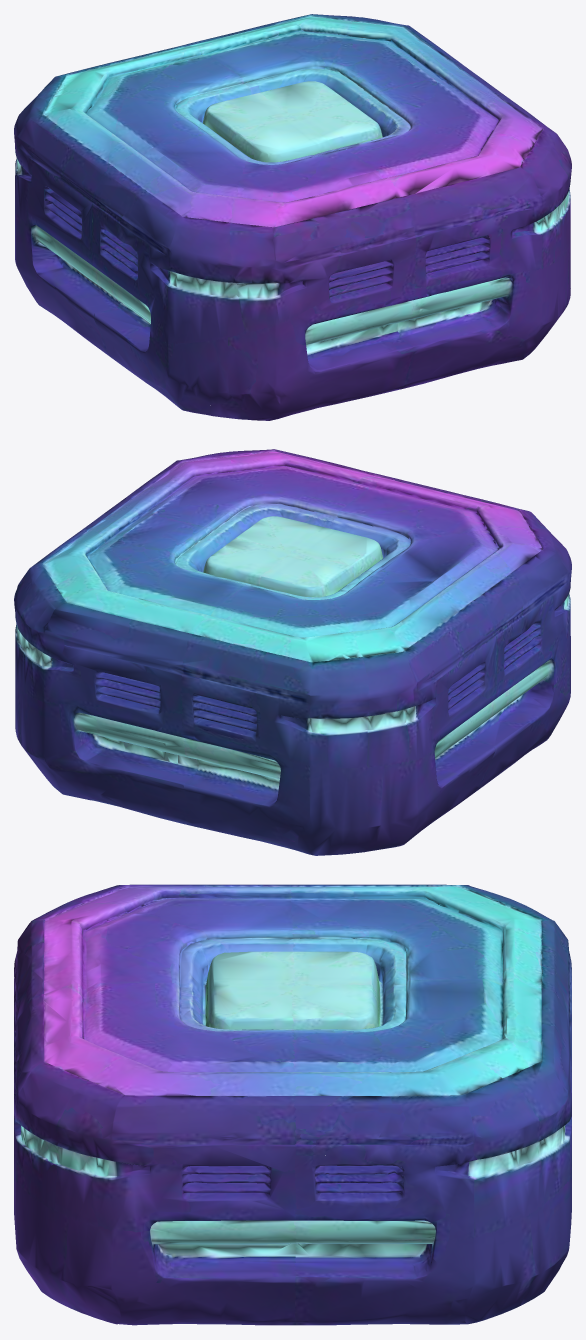
3 views of the same model, one above another, from view 1: azimuth 30°, elevation 25°; view 2: azimuth 150°, elevation 25°; view 3: azimuth 270°, elevation 25° (orthographic). The views are drawn at different scales.
Parts seen in each view (by area): view 1: tripo_node_06cc566e-39e4-4fd4-9e53-3f833e7c1253; view 2: tripo_node_06cc566e-39e4-4fd4-9e53-3f833e7c1253; view 3: tripo_node_06cc566e-39e4-4fd4-9e53-3f833e7c1253.
Part boxes in pixels (x1=…): tripo_node_06cc566e-39e4-4fd4-9e53-3f833e7c1253: x1=14, y1=14, x2=571, y2=420; tripo_node_06cc566e-39e4-4fd4-9e53-3f833e7c1253: x1=14, y1=449, x2=571, y2=855; tripo_node_06cc566e-39e4-4fd4-9e53-3f833e7c1253: x1=14, y1=884, x2=571, y2=1325.
Size of the model in its own units: 0.9794 by 0.4655 by 0.9794.
1 material, 1 textured.
